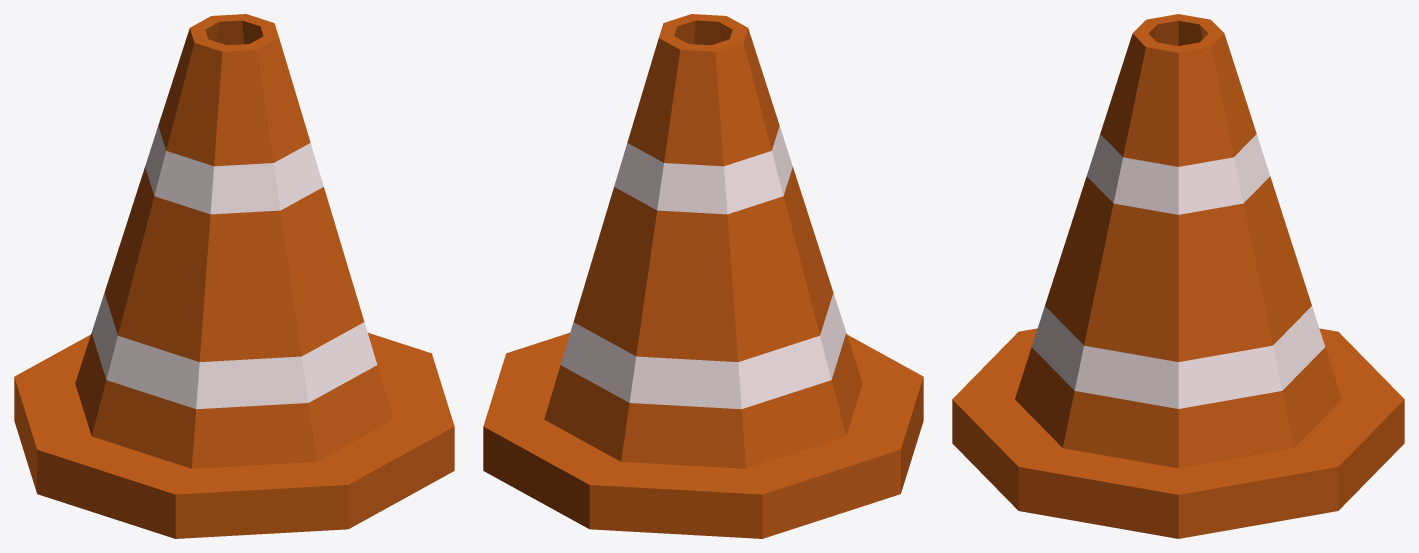
File: trafic_cone.fbx
3 views of the same model, side by side, from view 1: azimuth 30°, elevation 25°; view 2: azimuth 150°, elevation 25°; view 3: azimuth 270°, elevation 25° (orthographic).
Visible parts, largest first — view 1: Cone; view 2: Cone; view 3: Cone.
Part boxes in pixels (box(x1,y1,x2,y2)): Cone: box(14, 14, 454, 538); Cone: box(483, 14, 923, 538); Cone: box(952, 14, 1404, 538).
Size of the model in its own units: 30 by 30 by 30.
